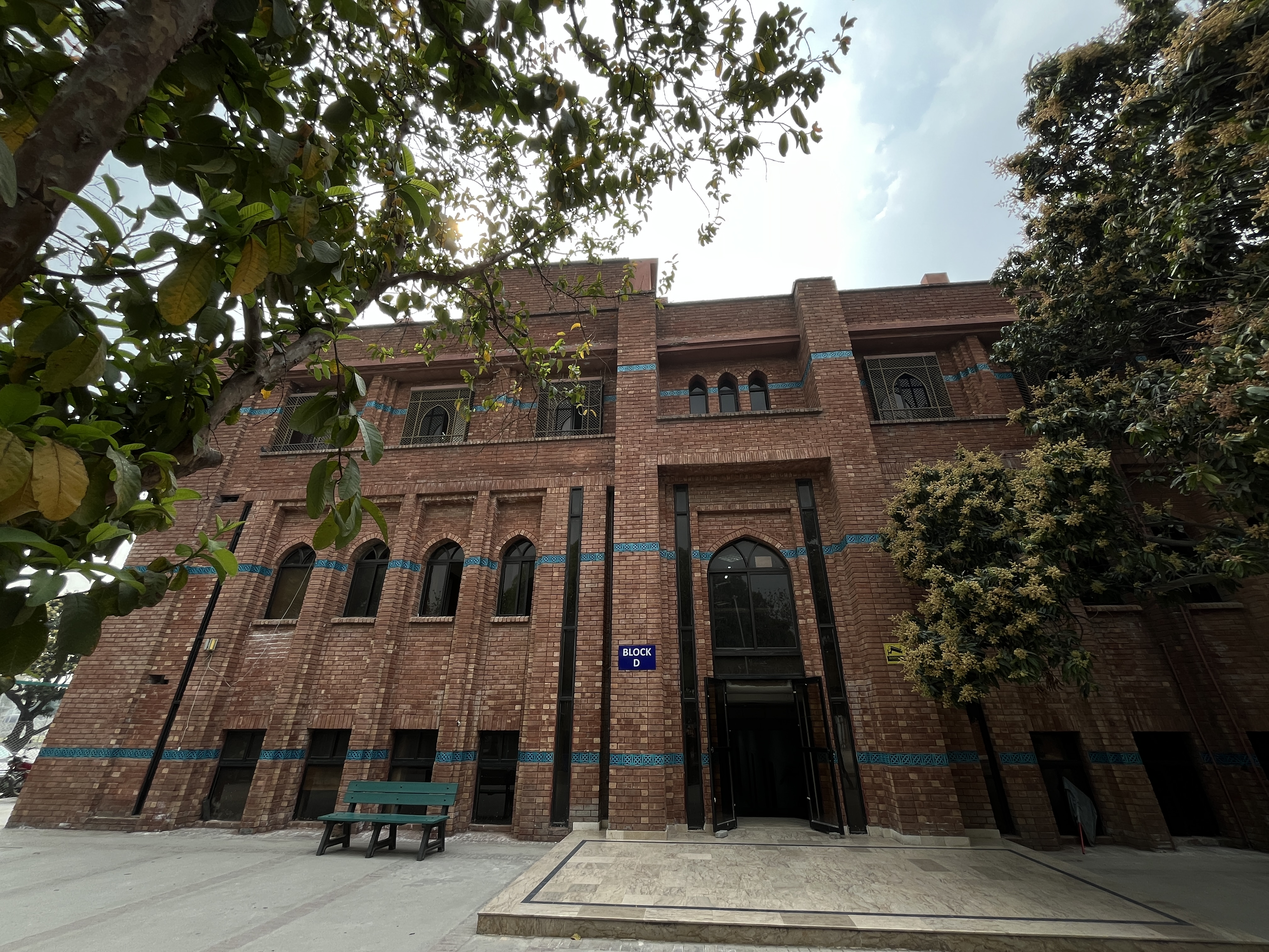Block D: (14, 253, 1266, 857)
